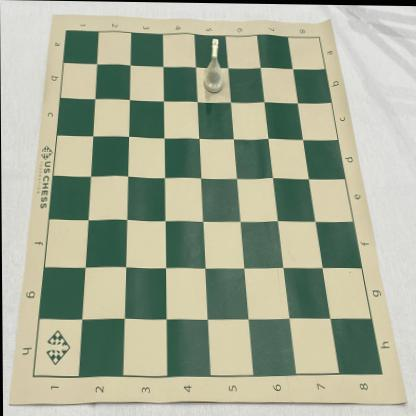white-knight: (202, 37, 225, 94)
